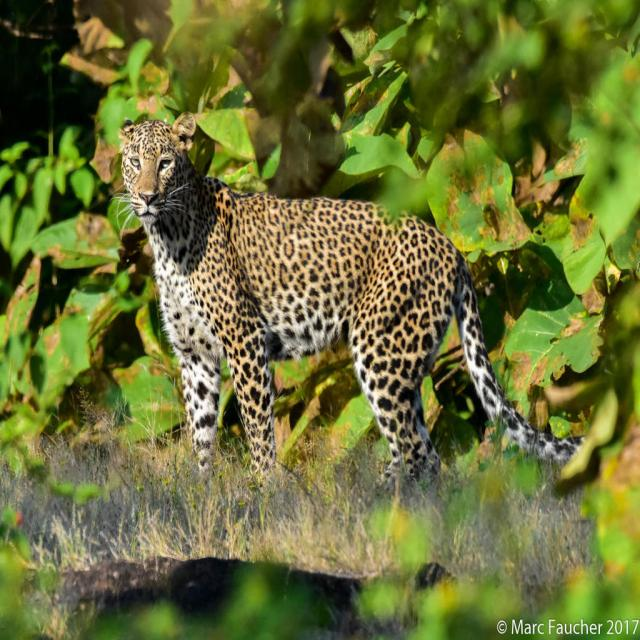Leopard: (114, 112, 586, 476)
